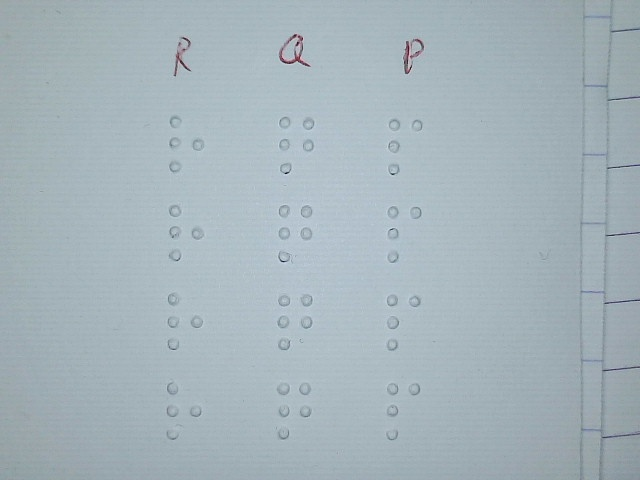P: (387, 116, 424, 175), (386, 203, 423, 262), (385, 292, 422, 351), (385, 381, 422, 440)
Q: (278, 115, 315, 174), (277, 203, 314, 262), (277, 292, 314, 351), (276, 380, 313, 439)
R: (168, 114, 205, 173), (168, 203, 205, 262), (167, 291, 204, 350), (166, 380, 203, 439)
